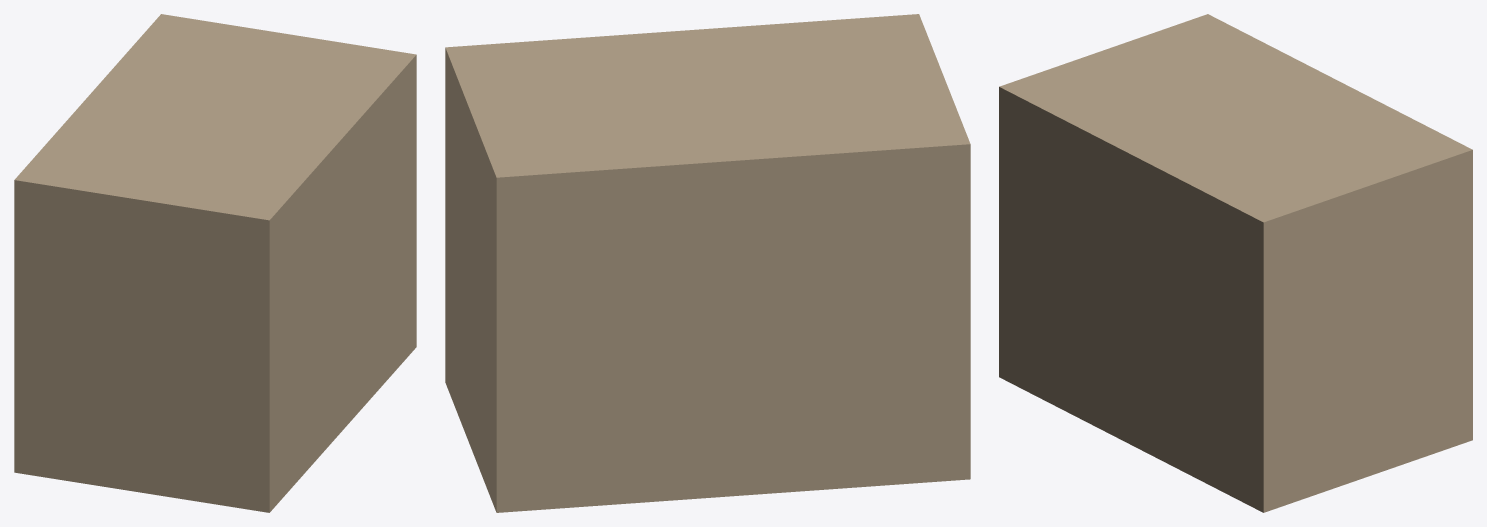
Rendered from bld_99589018.dae.
The picture shows the model from 3 angles, left to right: view 1: azimuth 30°, elevation 25°; view 2: azimuth 150°, elevation 25°; view 3: azimuth 270°, elevation 25°; orthographic projection. The views are drawn at different scales.
Visible parts, largest first — view 1: bld_99589018; view 2: bld_99589018; view 3: bld_99589018.
Part boxes in pixels (x1,y1,x2,y2): bld_99589018: [14, 14, 416, 512]; bld_99589018: [445, 14, 970, 512]; bld_99589018: [999, 14, 1472, 512].
Size of the model in its own units: 12.32 by 11.83 by 8.
